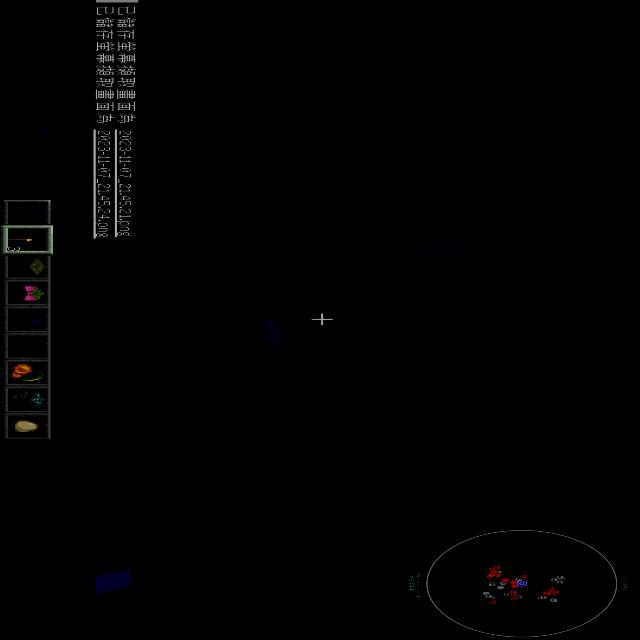Creeper: (406, 88, 490, 128)
Spider: (539, 177, 554, 189)
Zombie: (294, 465, 342, 487), (514, 89, 566, 109), (544, 144, 562, 152)
pig: (344, 284, 410, 314), (310, 439, 344, 463), (379, 337, 422, 354)
